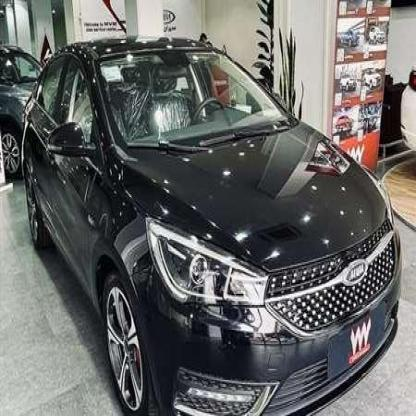Car: (30, 26, 401, 416), (0, 40, 67, 189)
